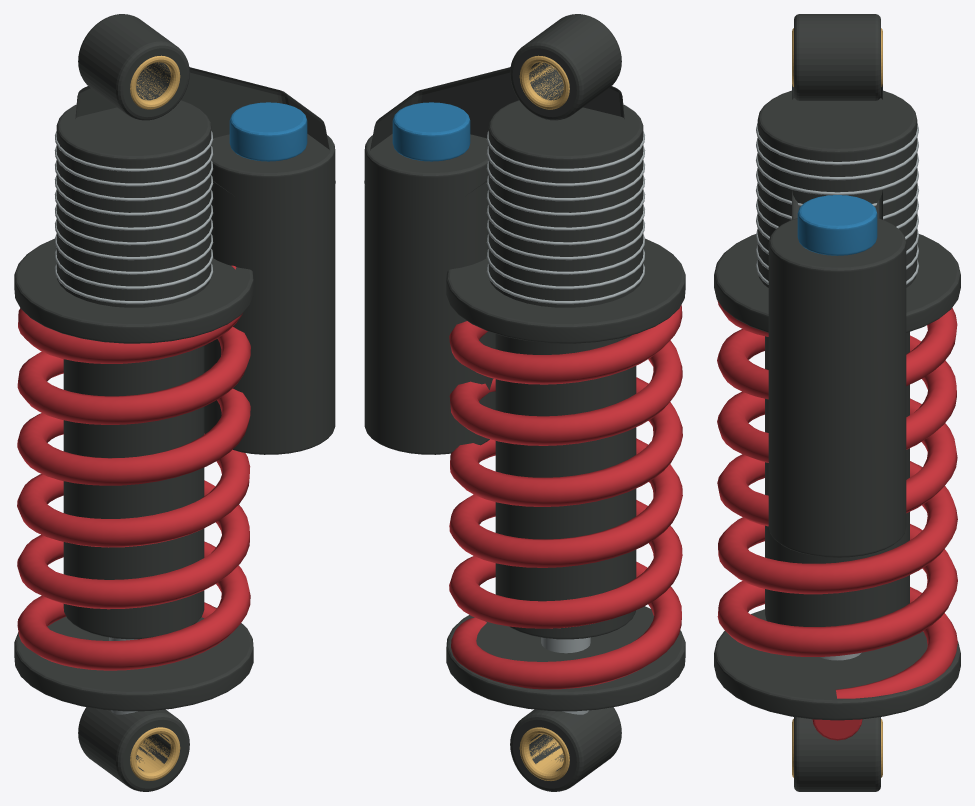
Rendered from rockshox-vivid-coil-ultimate-d1--6c27b587.glb.
3 views of the same model, side by side, from view 1: azimuth 30°, elevation 25°; view 2: azimuth 150°, elevation 25°; view 3: azimuth 270°, elevation 25° (orthographic). The views are drawn at different scales.
Visible parts, largest first — view 1: rockshox-vivid-coil-ultimate-d1--6c27b587__link, rockshox-vivid-coil-ultimate-d1--6c27b587__rebound, rockshox-vivid-coil-ultimate-d1--6c27b587__bolts, rockshox-vivid-coil-ultimate-d1--6c27b587__adjuster, rockshox-vivid-coil-ultimate-d1--6c27b587__stanchions; view 2: rockshox-vivid-coil-ultimate-d1--6c27b587__link, rockshox-vivid-coil-ultimate-d1--6c27b587__rebound, rockshox-vivid-coil-ultimate-d1--6c27b587__bolts, rockshox-vivid-coil-ultimate-d1--6c27b587__adjuster, rockshox-vivid-coil-ultimate-d1--6c27b587__stanchions; view 3: rockshox-vivid-coil-ultimate-d1--6c27b587__link, rockshox-vivid-coil-ultimate-d1--6c27b587__rebound, rockshox-vivid-coil-ultimate-d1--6c27b587__adjuster, rockshox-vivid-coil-ultimate-d1--6c27b587__bolts, rockshox-vivid-coil-ultimate-d1--6c27b587__stanchions.
Part boxes in pixels (left/top/right/bottom): rockshox-vivid-coil-ultimate-d1--6c27b587__link: left=14, top=14, right=335, bottom=791; rockshox-vivid-coil-ultimate-d1--6c27b587__rebound: left=17, top=265, right=250, bottom=670; rockshox-vivid-coil-ultimate-d1--6c27b587__bolts: left=54, top=131, right=213, bottom=714; rockshox-vivid-coil-ultimate-d1--6c27b587__adjuster: left=229, top=102, right=307, bottom=161; rockshox-vivid-coil-ultimate-d1--6c27b587__stanchions: left=130, top=55, right=180, bottom=780; rockshox-vivid-coil-ultimate-d1--6c27b587__link: left=364, top=14, right=685, bottom=791; rockshox-vivid-coil-ultimate-d1--6c27b587__rebound: left=449, top=305, right=682, bottom=689; rockshox-vivid-coil-ultimate-d1--6c27b587__bolts: left=486, top=131, right=645, bottom=714; rockshox-vivid-coil-ultimate-d1--6c27b587__adjuster: left=392, top=102, right=470, bottom=161; rockshox-vivid-coil-ultimate-d1--6c27b587__stanchions: left=519, top=55, right=569, bottom=780; rockshox-vivid-coil-ultimate-d1--6c27b587__link: left=714, top=14, right=960, bottom=791; rockshox-vivid-coil-ultimate-d1--6c27b587__rebound: left=717, top=301, right=957, bottom=740; rockshox-vivid-coil-ultimate-d1--6c27b587__adjuster: left=797, top=195, right=877, bottom=255; rockshox-vivid-coil-ultimate-d1--6c27b587__bolts: left=756, top=123, right=918, bottom=660; rockshox-vivid-coil-ultimate-d1--6c27b587__stanchions: left=792, top=28, right=882, bottom=777.
Bounding box in the file's own units: 0.097 × 0.234 × 0.068.
